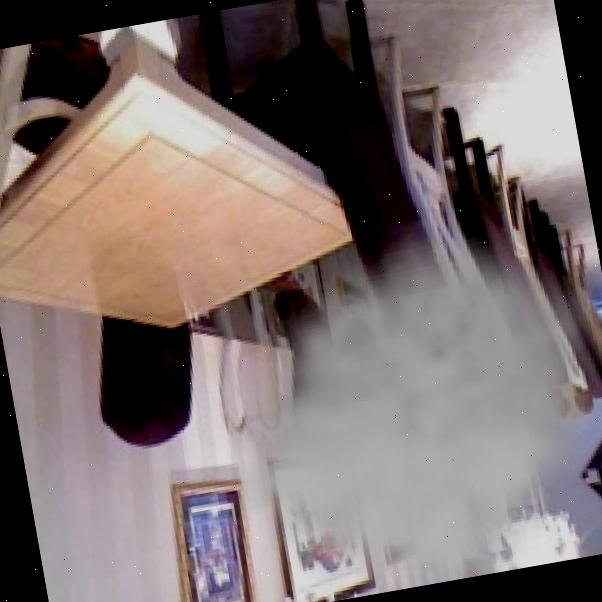smoke: (225, 274, 598, 540)
